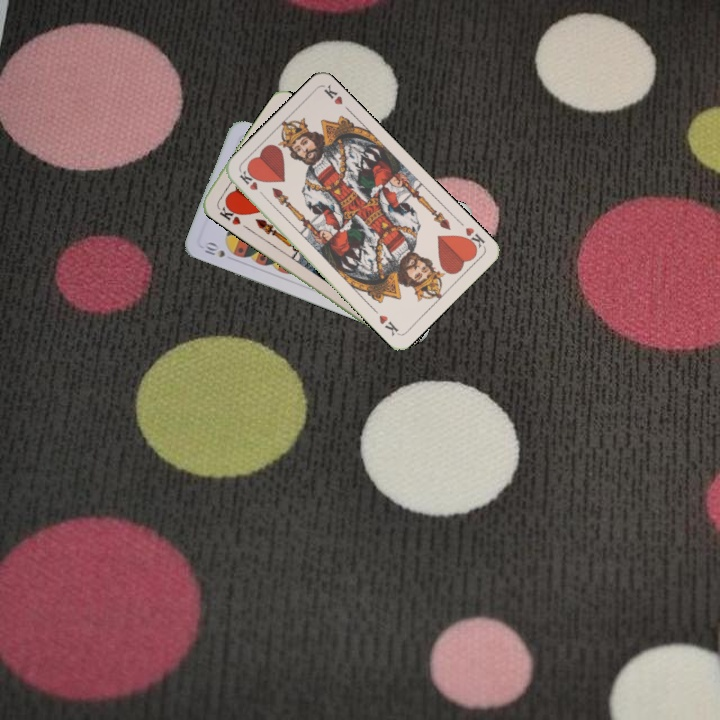HK: (235, 167, 268, 201), (457, 223, 487, 254), (213, 199, 245, 228)
S10: (200, 239, 228, 260)
